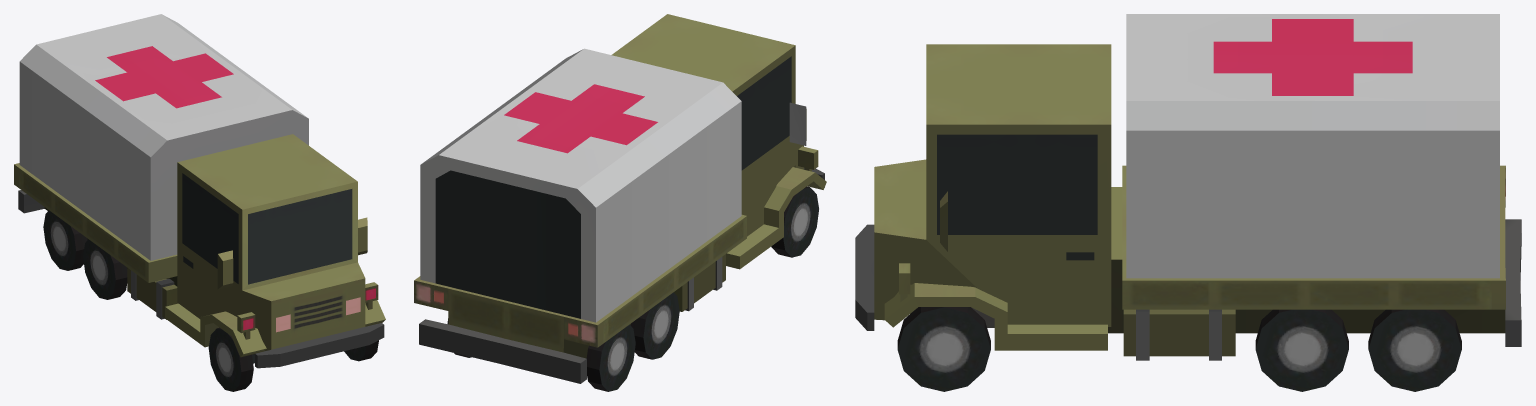
Rendered from truck.FBX.
3 renders of one model, left to right at view 1: azimuth 30°, elevation 25°; view 2: azimuth 150°, elevation 25°; view 3: azimuth 270°, elevation 25°, orthographic. The views are drawn at different scales.
Parts seen in each view (by area): view 1: truck; view 2: truck; view 3: truck.
Boxes of the visible parts, box(x1,y1,x2,y2) form: truck: box(14, 14, 385, 391); truck: box(414, 14, 826, 391); truck: box(855, 14, 1521, 391).
Size of the model in its own units: 4.42 by 5.13 by 10.81.
